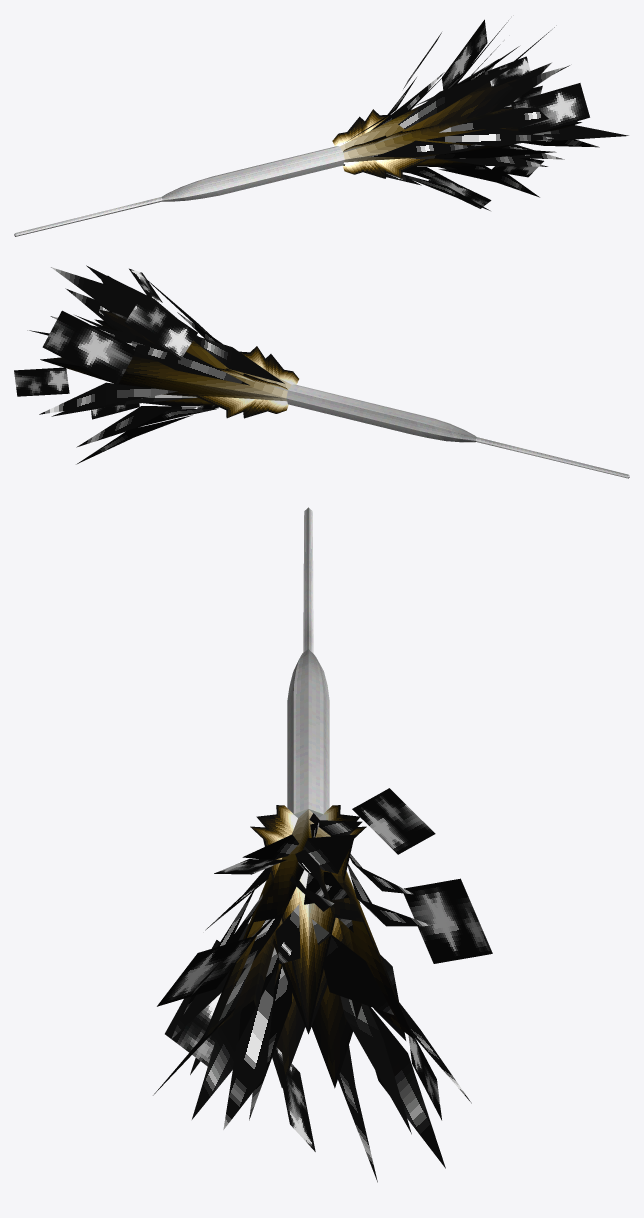
The model's file is arms76.obj.
The picture shows the model from 3 angles, top to bottom: view 1: azimuth 30°, elevation 25°; view 2: azimuth 150°, elevation 25°; view 3: azimuth 270°, elevation 25°; orthographic projection. The views are drawn at different scales.
Visible parts, largest first — view 1: arms76; view 2: arms76; view 3: arms76.
Part boxes in pixels (x1,y1,x2,y2): arms76: (14, 19, 628, 236); arms76: (14, 265, 629, 478); arms76: (153, 507, 492, 1182).
Bounding box in the file's own units: 2.44 × 0.7011 × 0.6273.
2 materials, 2 textured.
